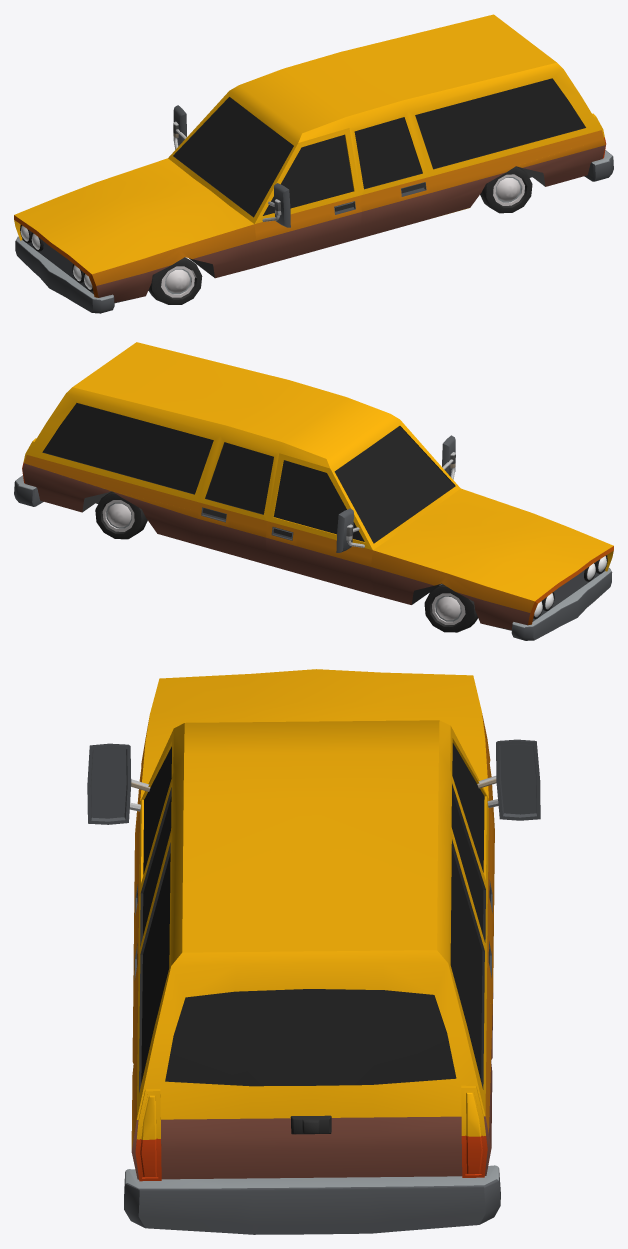
Rendered from Carro3.fbx.
3 renders of one model, top to bottom at view 1: azimuth 30°, elevation 25°; view 2: azimuth 150°, elevation 25°; view 3: azimuth 270°, elevation 25°, orthographic. The views are drawn at different scales.
Visible parts, largest first — view 1: PROPS_INTERIOR_2_1; view 2: PROPS_INTERIOR_2_1; view 3: PROPS_INTERIOR_2_1.
Part boxes in pixels (bbox=[...]): PROPS_INTERIOR_2_1: bbox=[14, 14, 613, 313]; PROPS_INTERIOR_2_1: bbox=[14, 342, 613, 640]; PROPS_INTERIOR_2_1: bbox=[87, 669, 540, 1234].
Size of the model in its own units: 1165 by 318 by 438.
1 material, 1 textured.
